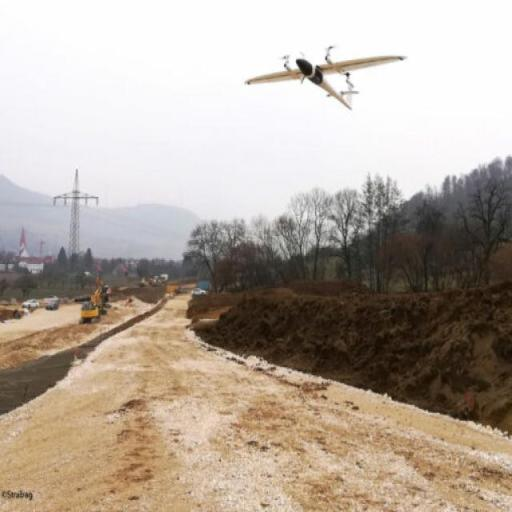uav: (238, 44, 416, 113)
